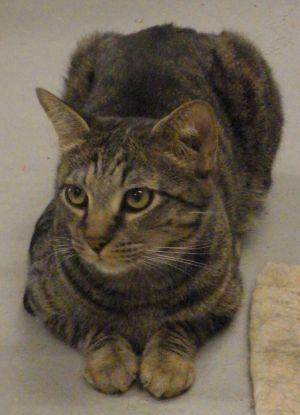bengal: (30, 79, 225, 277)
